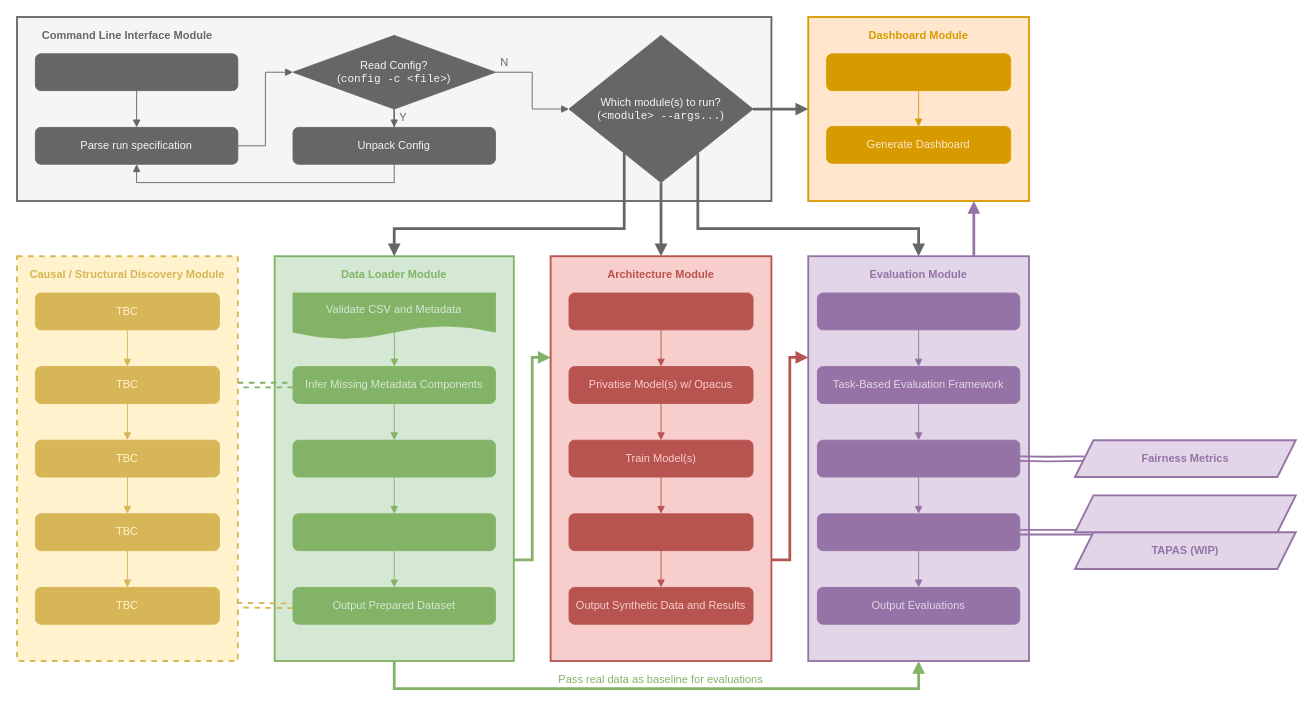
Image size: 1312x713. Some labels were removed from this diagram. Here are the shapes that lost their labels. From the top down, the centre of each, then its label:
At (x=136, y=72): "> nhssynth ...".
At (x=918, y=72): "Load Evaluations".
At (x=660, y=311): "Setup Model Definition(s)".
At (x=918, y=311): "Apply SDMetrics Evaluation".
At (x=393, y=458): "Type and Resolve Missingness in Data".
At (x=918, y=458): "Fairness Evaluation".
At (x=393, y=532): "Transform Data and Apply Constraints".
At (x=660, y=532): "Generate Synthetic Data".
At (x=918, y=532): "Privacy Evaluation".
At (x=1185, y=513): "NHSx Synthetic Adversarial Suite".
